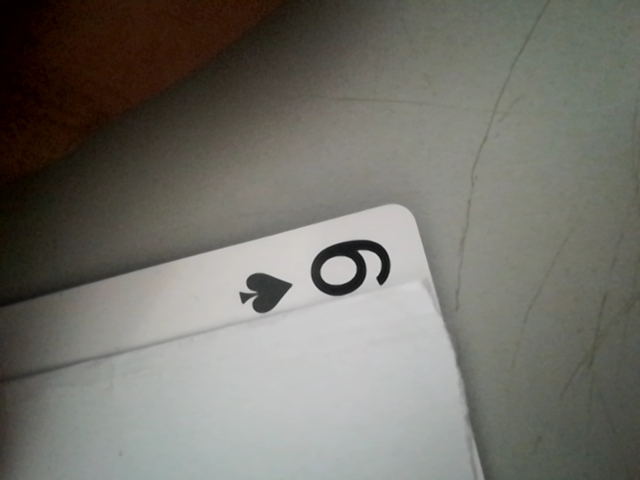ht 6: (221, 228, 416, 313)
